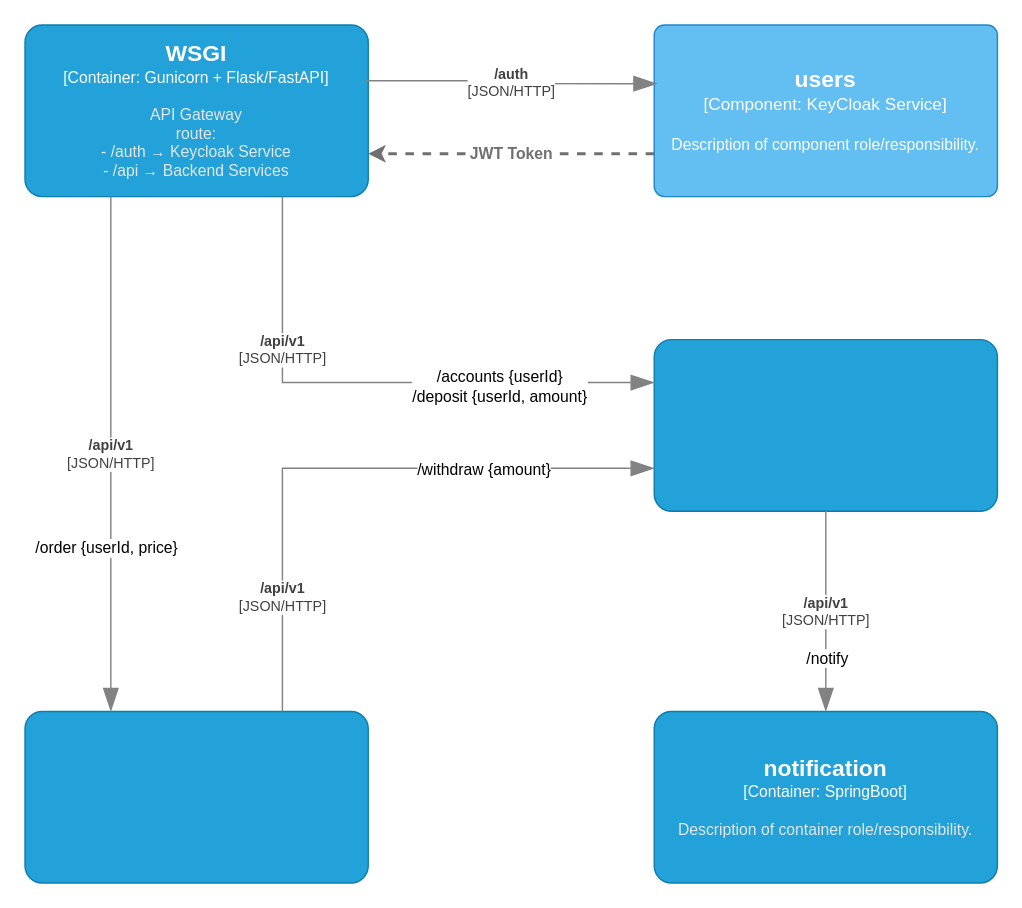
Some shapes in this 1022 by 908 pixel diagram are drawn without their labels. Each missing label, with the centre of its shape:
"billing [Container: SpringBoot] Description of container role/responsibility." goes at point 825,424.
"order [Container: SpringBoot] Description of container role/responsibility." goes at point 196,796.
